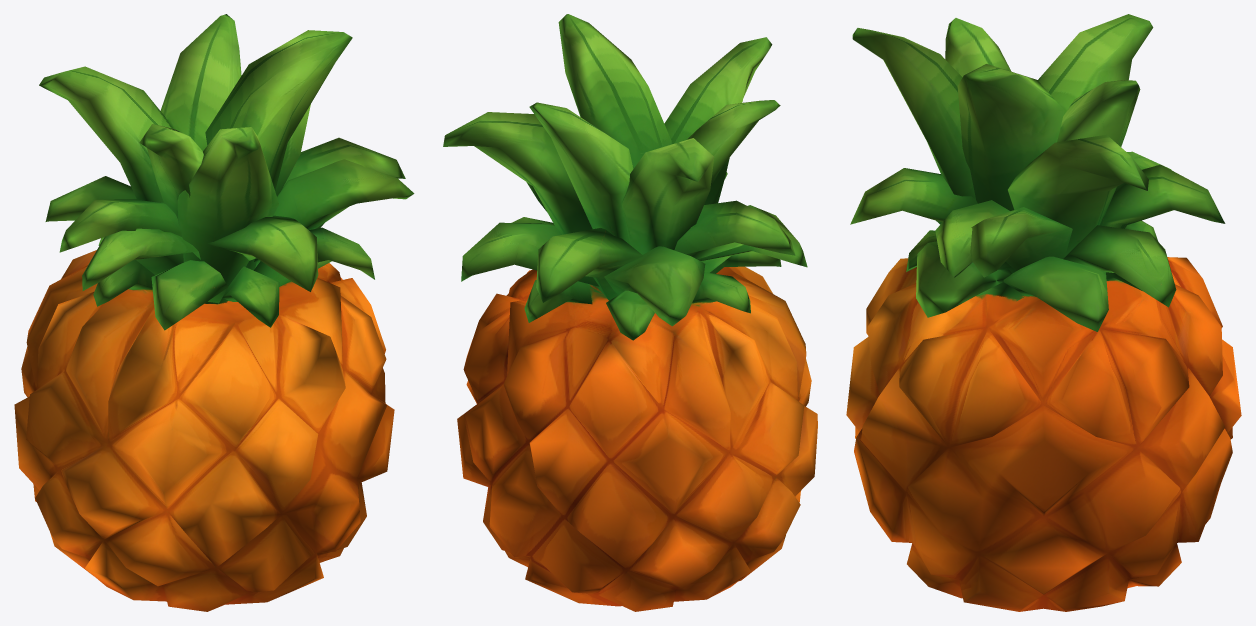
Rendered from Golden_Pineapple.fbx.
3 views of the same model, side by side, from view 1: azimuth 30°, elevation 25°; view 2: azimuth 150°, elevation 25°; view 3: azimuth 270°, elevation 25° (orthographic). The views are drawn at different scales.
Visible parts, largest first — view 1: mesh_node; view 2: mesh_node; view 3: mesh_node.
Boxes of the visible parts, x1=… form: mesh_node: x1=14, y1=14, x2=414, y2=611; mesh_node: x1=443, y1=14, x2=817, y2=611; mesh_node: x1=846, y1=14, x2=1241, y2=611.
Size of the model in its own units: 31.45 by 50 by 31.05.
Materials: 1 (1 with a texture image).
